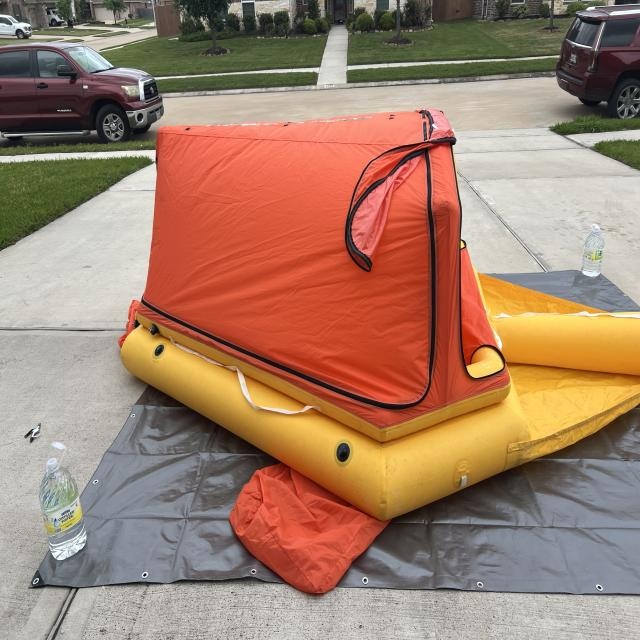Multi-person_life_raft: (118, 107, 640, 595)
